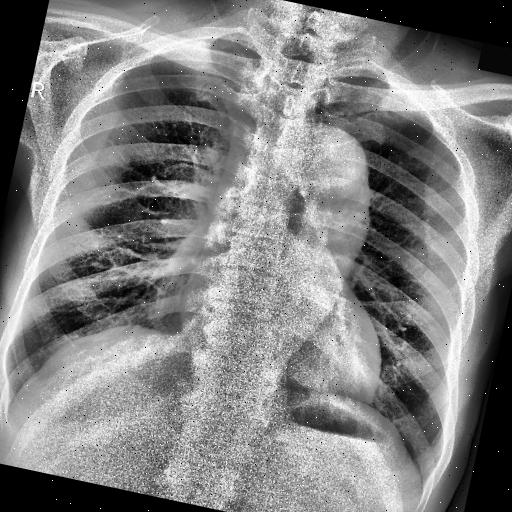0- Aortic enlargement: (255, 112, 392, 264), (262, 117, 384, 240), (274, 116, 375, 200)
